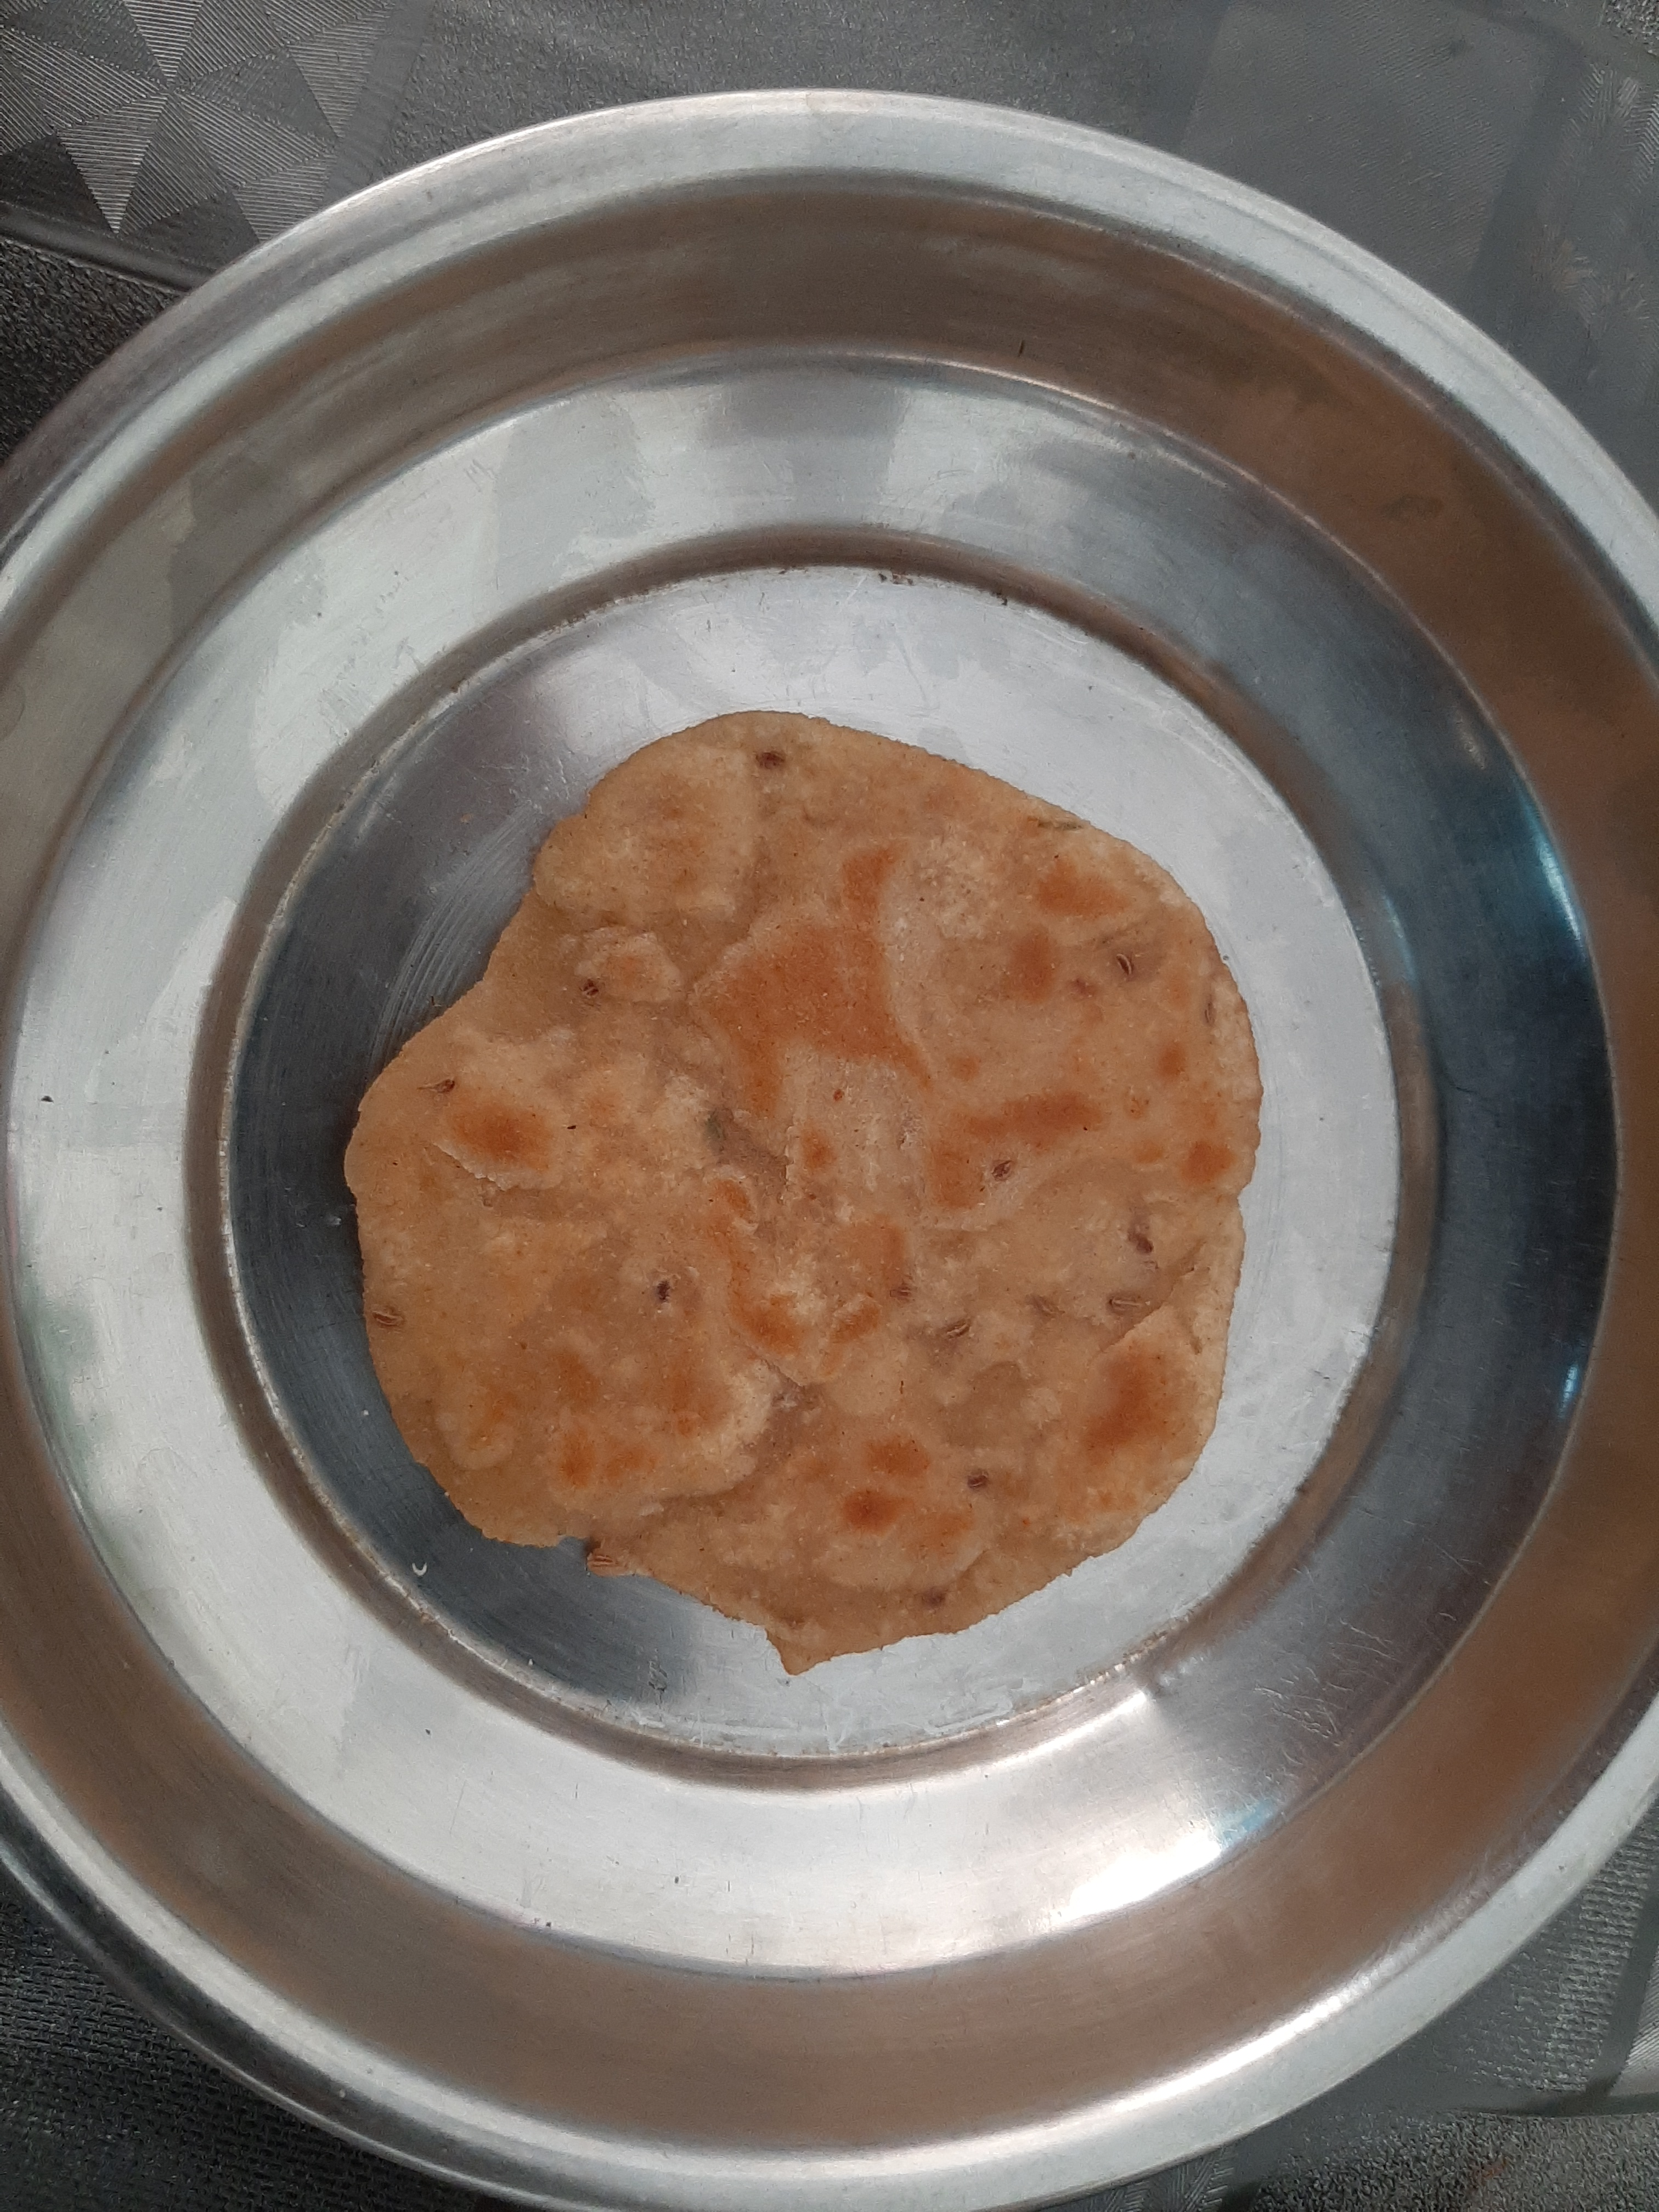food: (333, 698, 1269, 1698)
